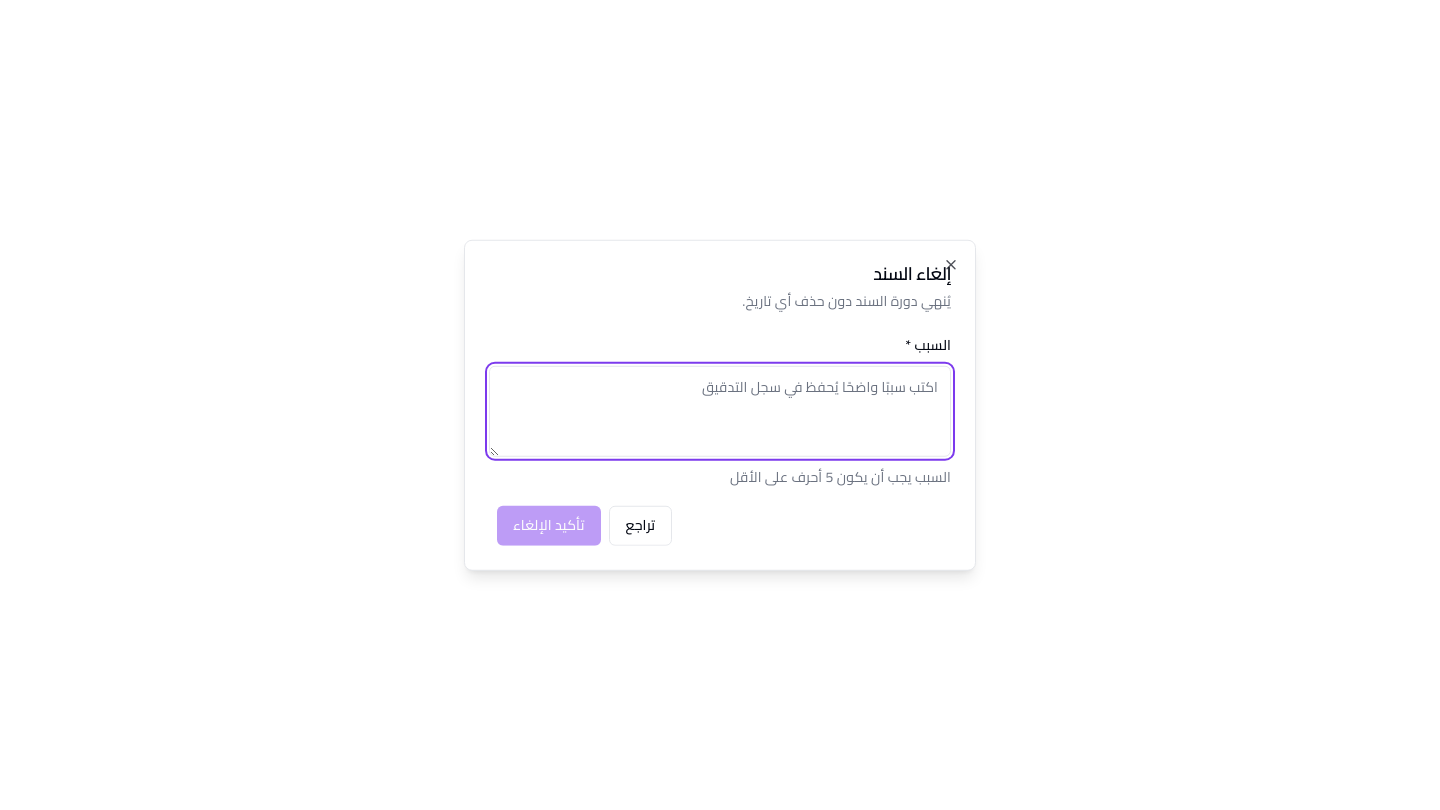
Test: VoucherReasonDialog › keeps confirm disabled until the reason is long enough
Expected: the button "تأكيد الإلغاء" is disabled, [497,505,601,545]
Type "خطأ" into the text box labelled "السبب *" at point(720, 411), box [489,365,951,457]
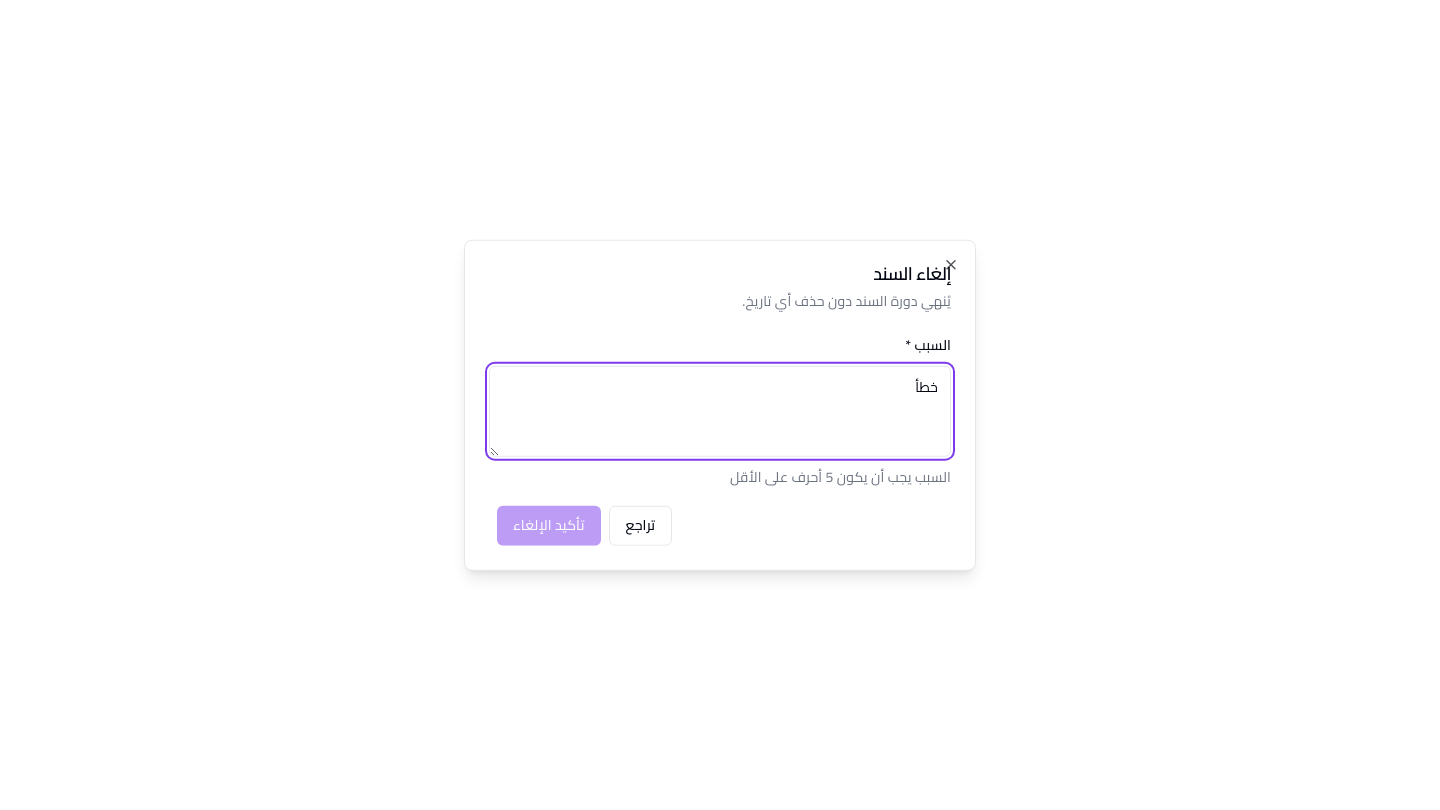
Expected: the button "تأكيد الإلغاء" is disabled, [497,505,601,545]
Type " مكرر" into the text box labelled "السبب *" at point(720, 411), box [489,365,951,457]
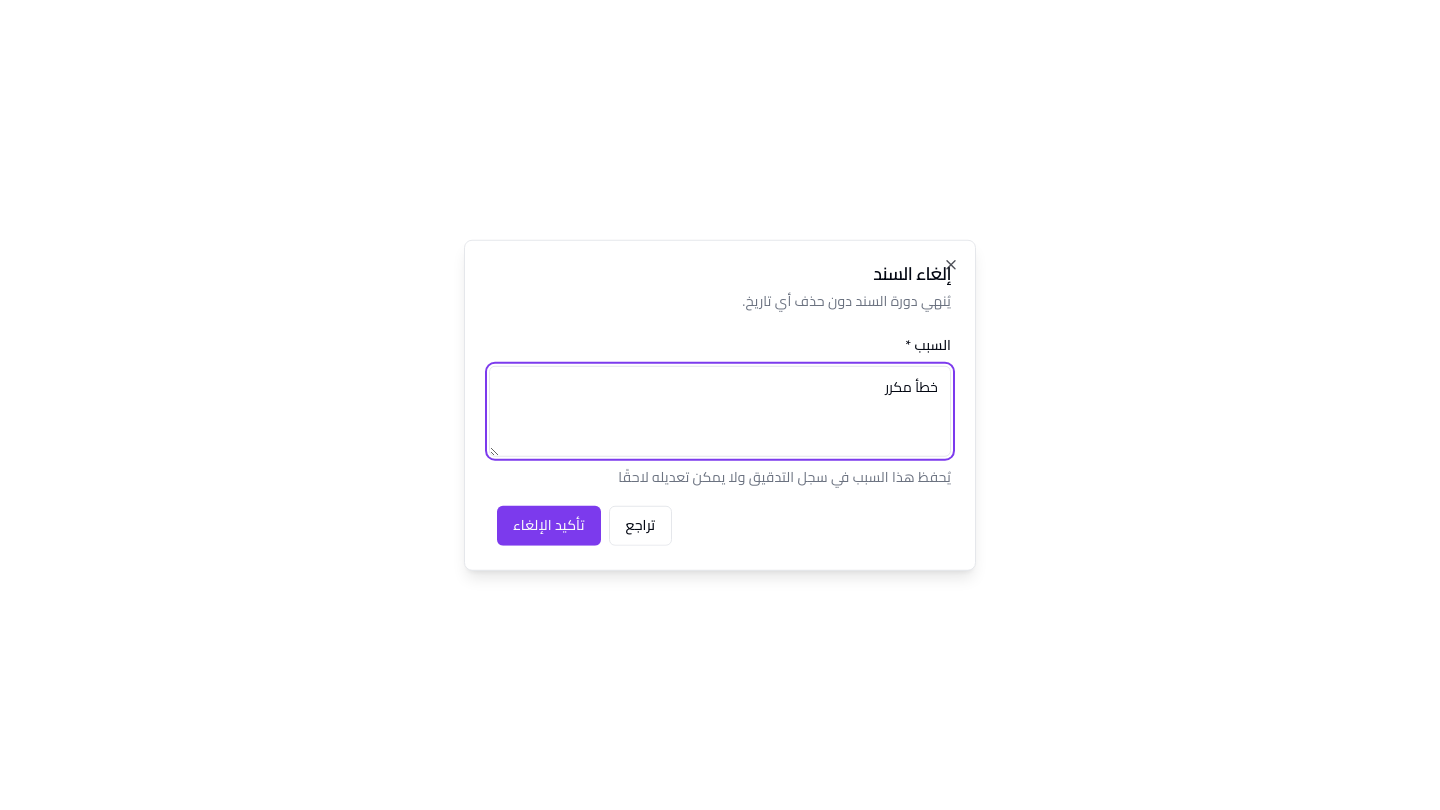
Expected: the button "تأكيد الإلغاء" is enabled, [497,505,601,545]
